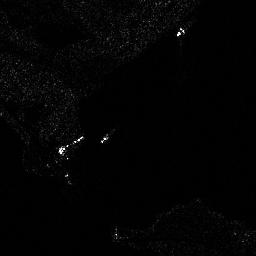ship: (58, 135, 85, 154)
